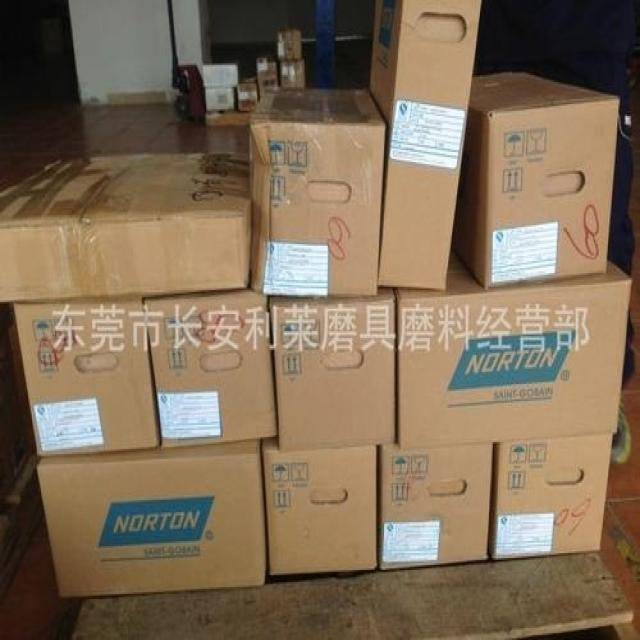box: (394, 247, 632, 451), (452, 72, 621, 290), (0, 154, 248, 302), (37, 440, 268, 597), (369, 0, 483, 290), (250, 85, 387, 294), (13, 297, 160, 456), (143, 288, 278, 447), (269, 288, 396, 451), (262, 437, 376, 577), (489, 432, 613, 560), (378, 444, 494, 570), (257, 58, 279, 101), (204, 65, 238, 89), (279, 58, 305, 87), (278, 29, 301, 60), (206, 89, 237, 111), (238, 79, 257, 111)
